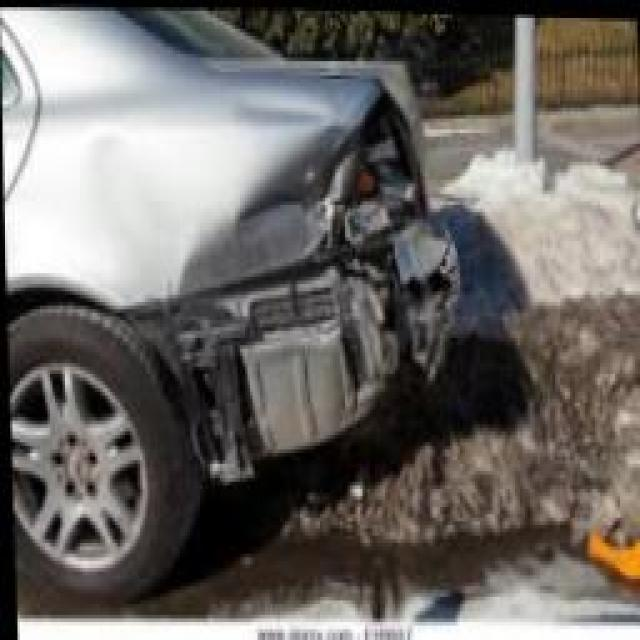Bumper: (117, 205, 460, 483)
Fender: (120, 54, 378, 309)
Light: (335, 80, 428, 245)
